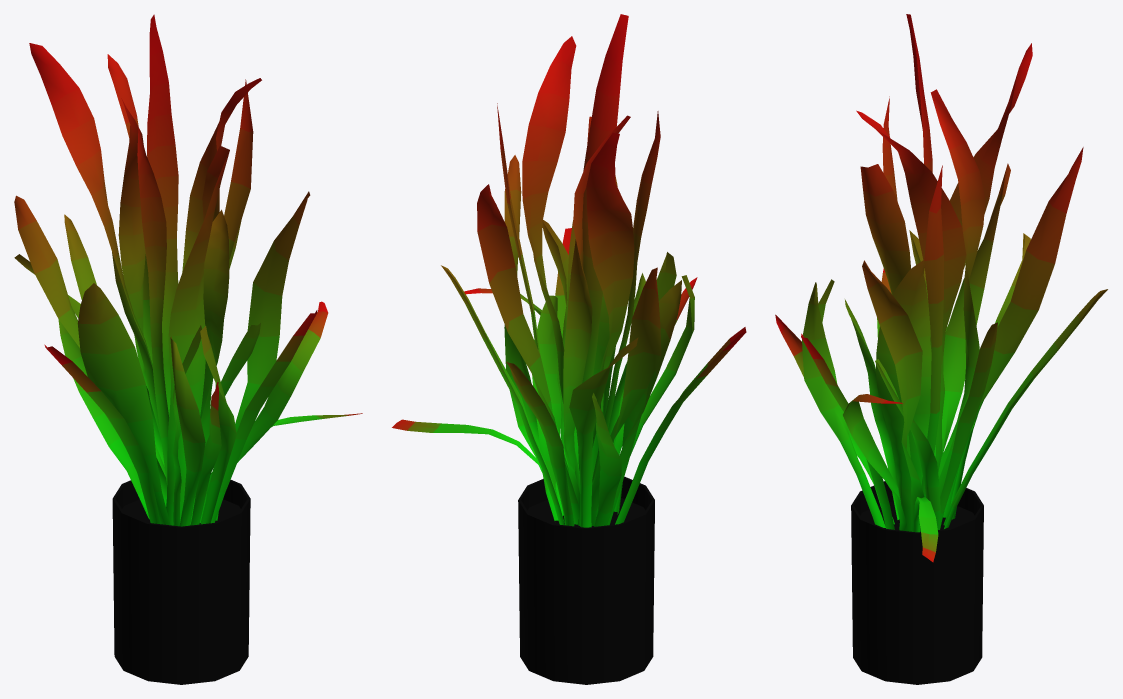
Rendered from SM_CS1_Snake_Plant_01a_c1_LOD2.fbx.
3 views of the same model, side by side, from view 1: azimuth 30°, elevation 25°; view 2: azimuth 150°, elevation 25°; view 3: azimuth 270°, elevation 25° (orthographic). The views are drawn at different scales.
Parts seen in each view (by area): view 1: SM_Snake_Plant_01a_LOD2; view 2: SM_Snake_Plant_01a_LOD2; view 3: SM_Snake_Plant_01a_LOD2.
Boxes of the visible parts, box(x1,y1,x2,y2) form: SM_Snake_Plant_01a_LOD2: box(14, 14, 362, 684); SM_Snake_Plant_01a_LOD2: box(392, 14, 746, 684); SM_Snake_Plant_01a_LOD2: box(775, 14, 1107, 684).
Size of what is drawn, in the model's own units: 76.8 by 142 by 68.33.
